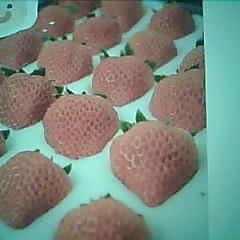straw-ripe: (111, 120, 198, 205), (0, 149, 73, 227), (44, 92, 118, 159)
